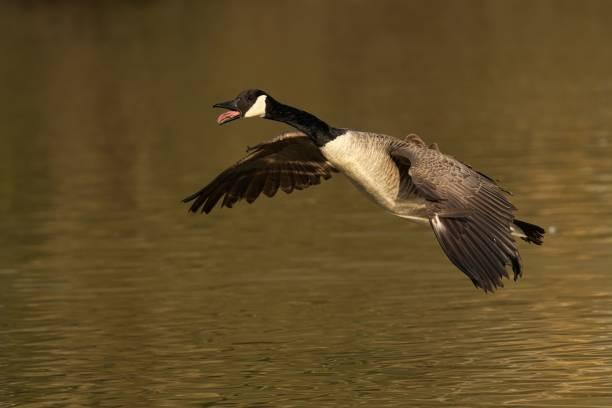Canadian-Goose: (187, 85, 549, 292)
